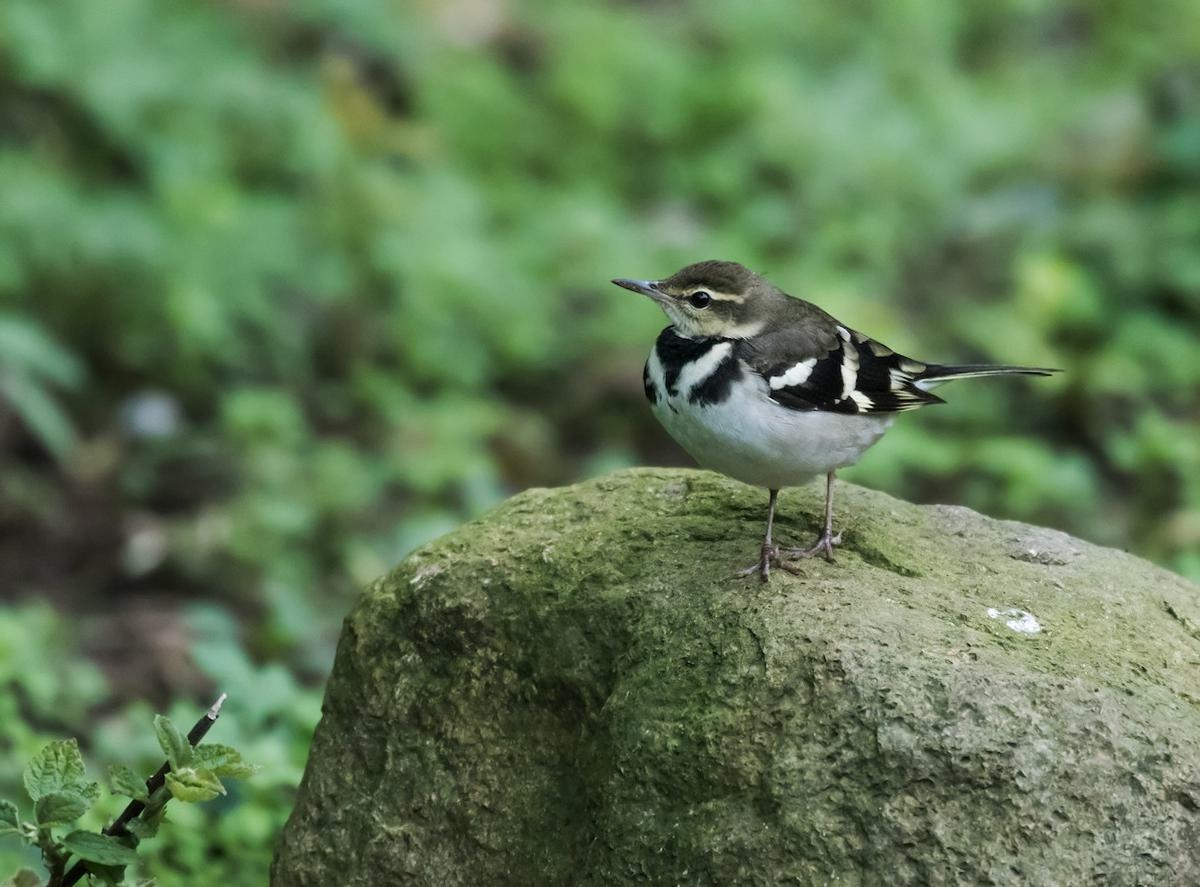wagtail: (635, 229, 960, 528)
